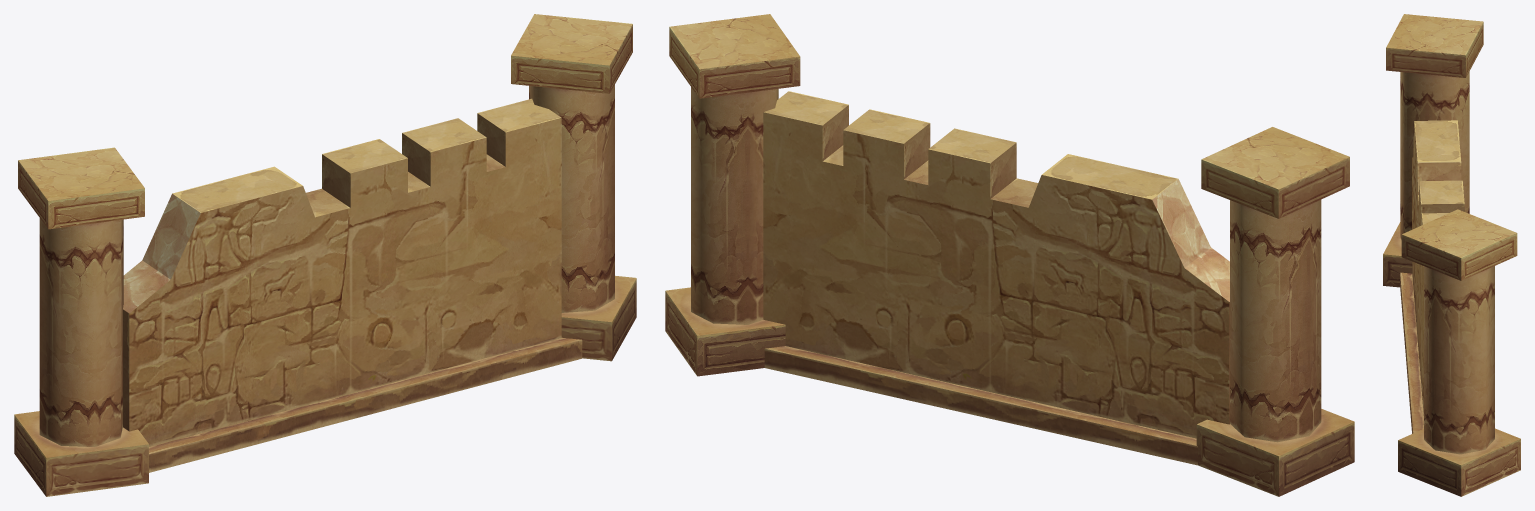
Rendered from Area_06_40.fbx.
3 views of the same model, side by side, from view 1: azimuth 30°, elevation 25°; view 2: azimuth 150°, elevation 25°; view 3: azimuth 270°, elevation 25° (orthographic). The views are drawn at different scales.
Parts seen in each view (by area): view 1: Area_06_40; view 2: Area_06_40; view 3: Area_06_40.
Part boxes in pixels (box(x1,y1,x2,y2)): Area_06_40: box(14, 14, 636, 496); Area_06_40: box(665, 14, 1354, 496); Area_06_40: box(1383, 14, 1520, 496).
Size of the model in its own units: 800 by 359 by 189.
